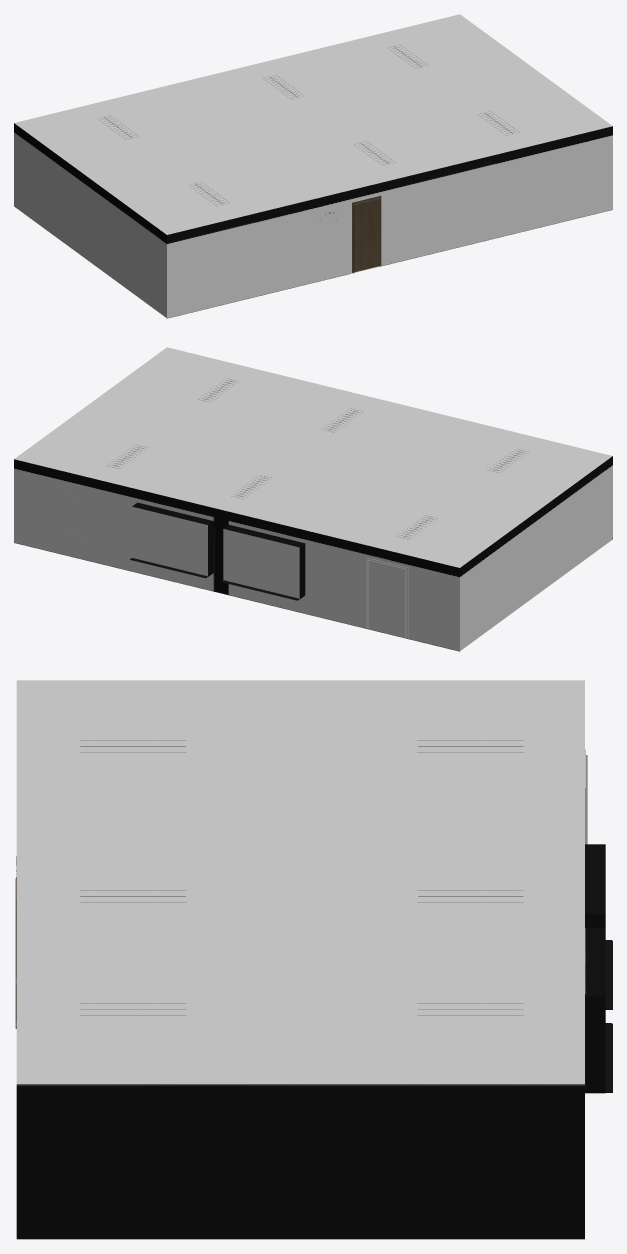
Rendered from Mensa.fbx.
3 renders of one model, top to bottom at view 1: azimuth 30°, elevation 25°; view 2: azimuth 150°, elevation 25°; view 3: azimuth 270°, elevation 25°, orthographic. The views are drawn at different scales.
Parts seen in each view (by area): view 1: Soffitto, Stanza; view 2: Soffitto, Stanza, Uscita Emergenza; view 3: Soffitto, Stanza.
Boxes of the visible parts, box(x1,y1,x2,y2) form: Soffitto: box(14, 14, 612, 234); Stanza: box(14, 123, 612, 318); Soffitto: box(14, 347, 612, 567); Stanza: box(14, 456, 612, 651); Uscita Emergenza: box(366, 557, 408, 638); Soffitto: box(16, 680, 584, 1084); Stanza: box(15, 844, 612, 1239).
Size of the model in its own units: 1653 by 298 by 1035.
